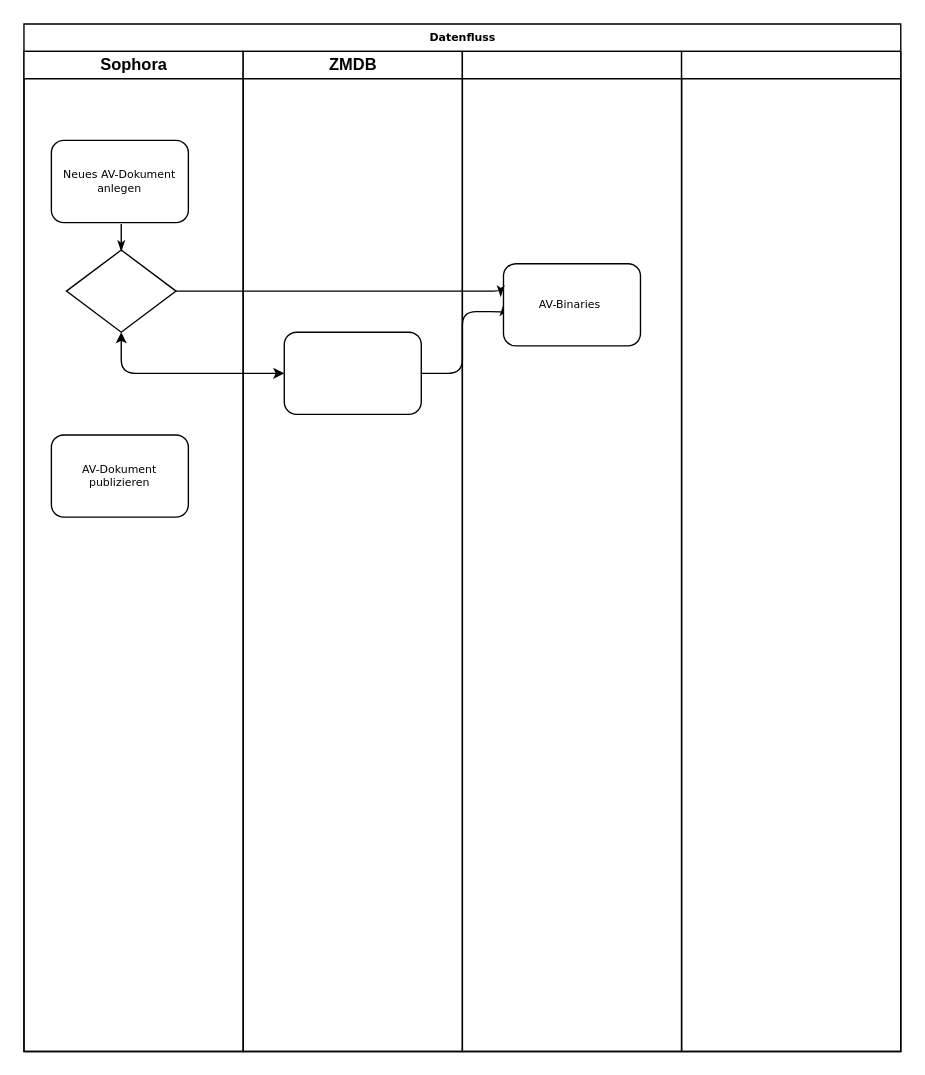
Some shapes in this 925 by 1075 pixel diagram are drawn without their labels. Here are the shapes that lost their labels. From the top down, the box of each, then its label:
(283, 331, 421, 414): URLs
(461, 50, 682, 1051): Akamai
(680, 50, 901, 1051): Lane 5
